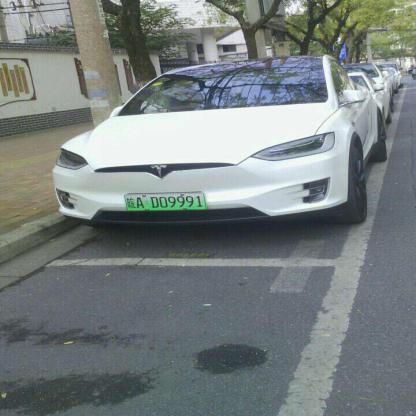lp: (124, 193, 206, 210)
